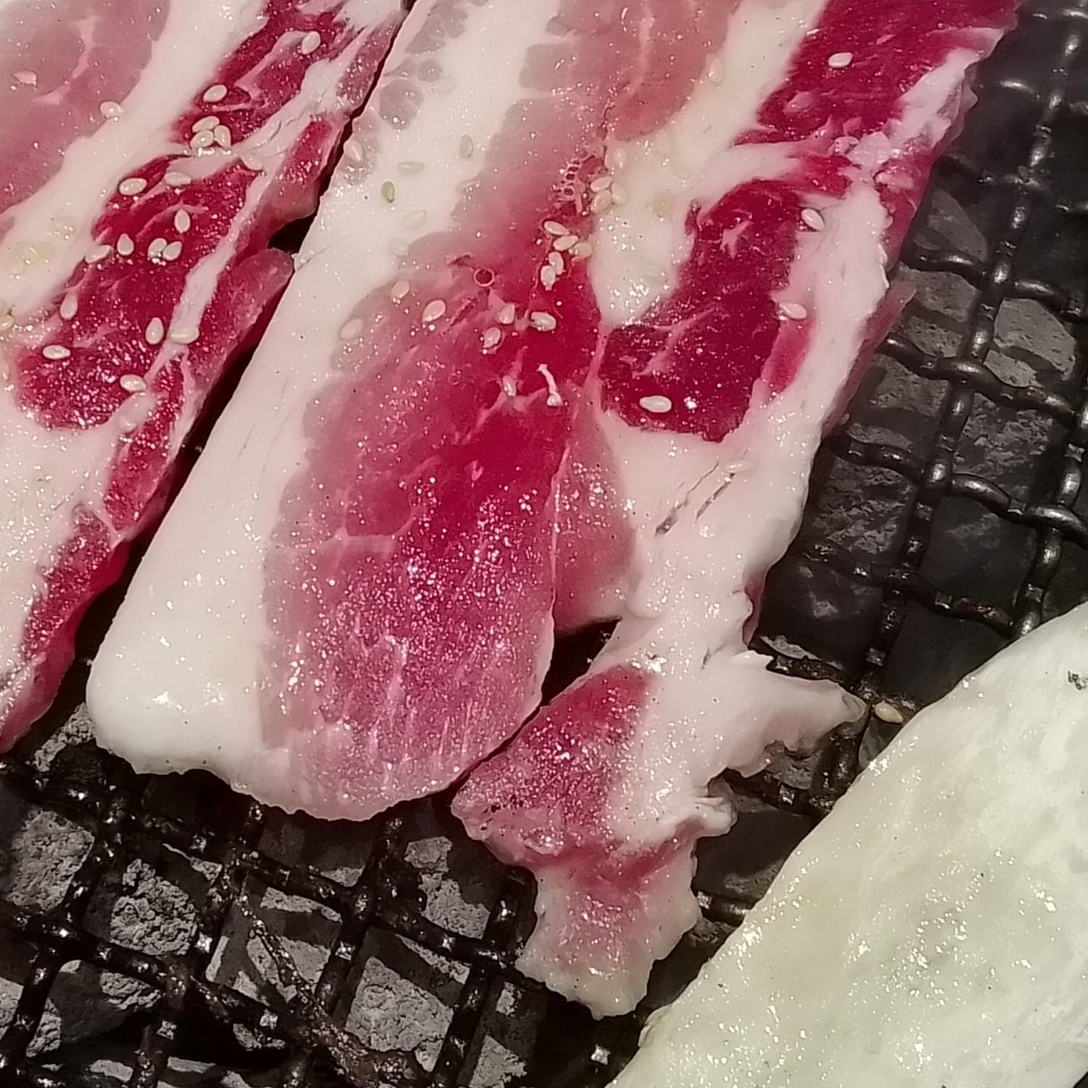Undercooked: (87, 0, 963, 1017), (0, 0, 404, 750)
